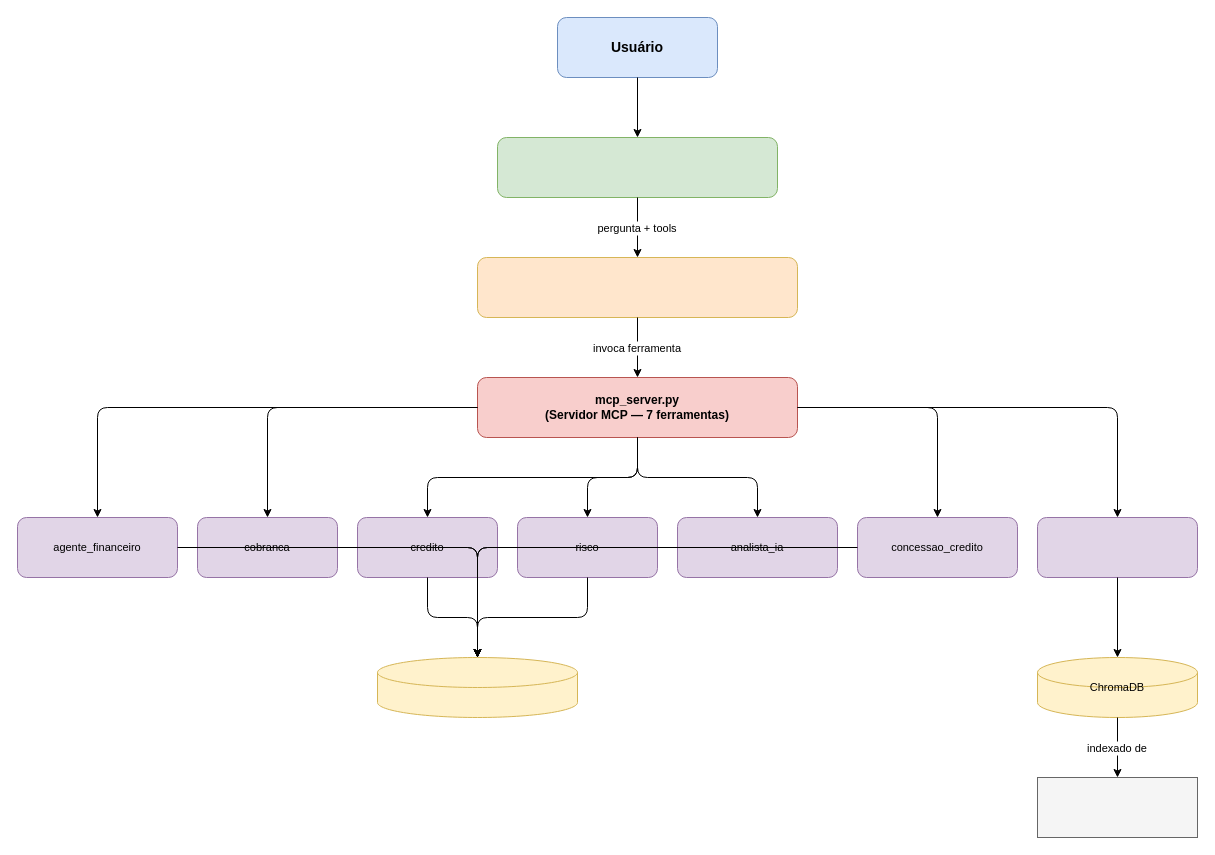
Some shapes in this 1215 by 855 pixel diagram are drawn without their labels. Here are the shapes that lost their labels. From the top down, the centre of each, then its label:
At pixel 637 167: "chat.py (Cliente MCP Assíncrono)".
At pixel 637 287: "Qwen 3 1.7B (Ollama) seleciona a ferramenta adequada".
At pixel 1117 547: "agente_regras (RAG)".
At pixel 477 687: "BaseFinanceiroAnalise.xlsx".
At pixel 1117 807: "Politica_Financeira_Empresa.pdf".
